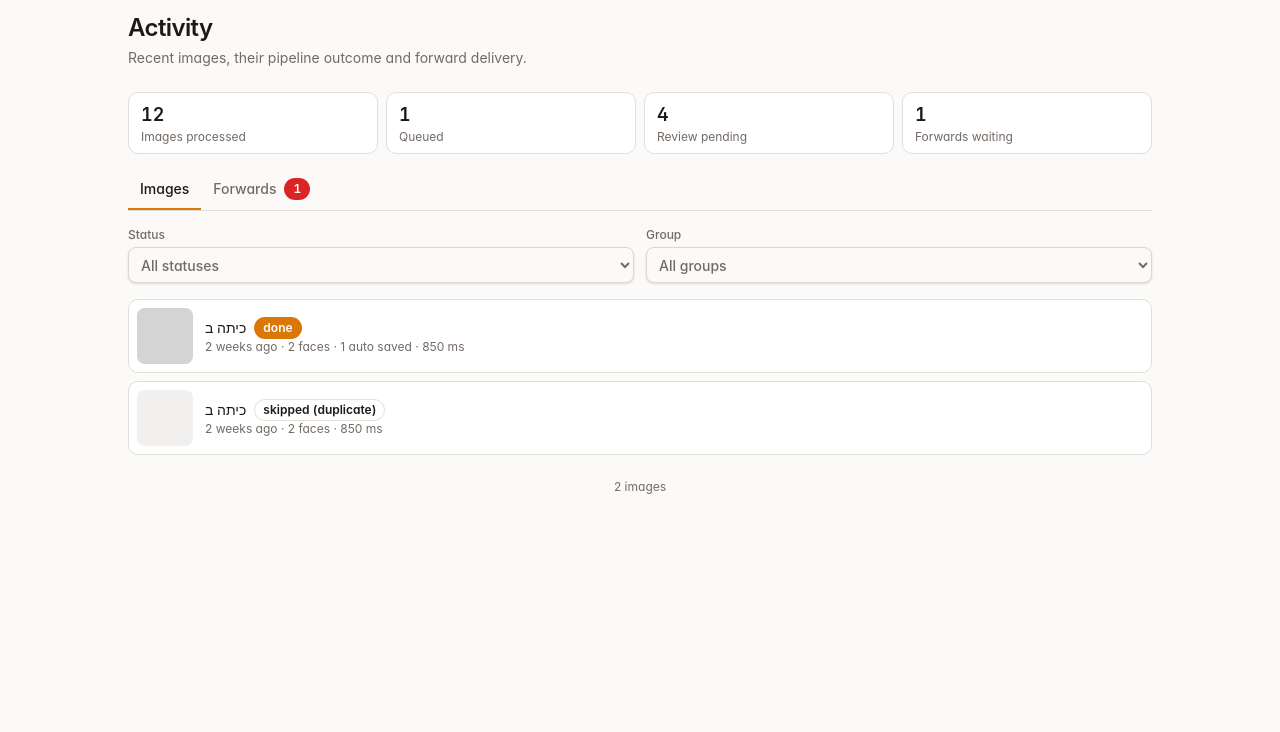
Test: ActivityPage › retries a failed forward
Click the tab "Forwards 1": [262, 190] box [201,170,322,210]
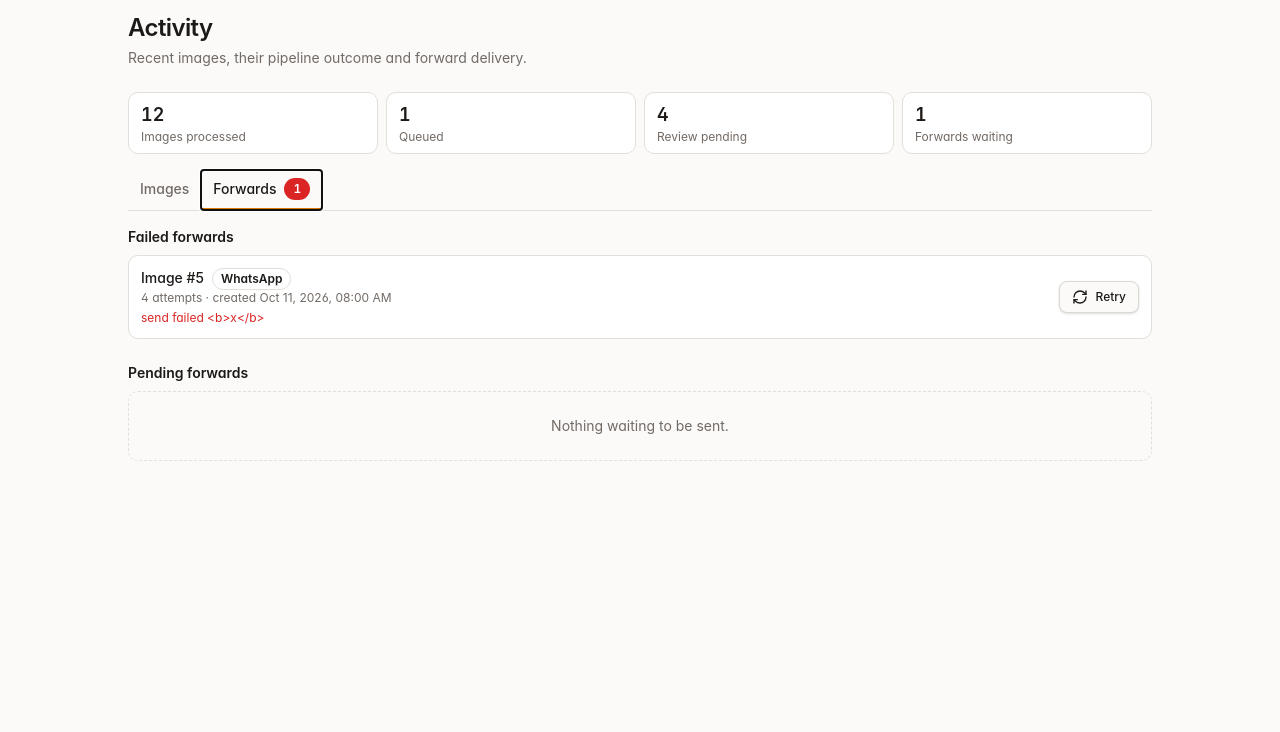
Result: the text "send failed <b>x</b>" is shown at [141,310,264,325]
Click the button with aria-label "Retry forward 11": [1099, 297] box [1058,281,1139,313]
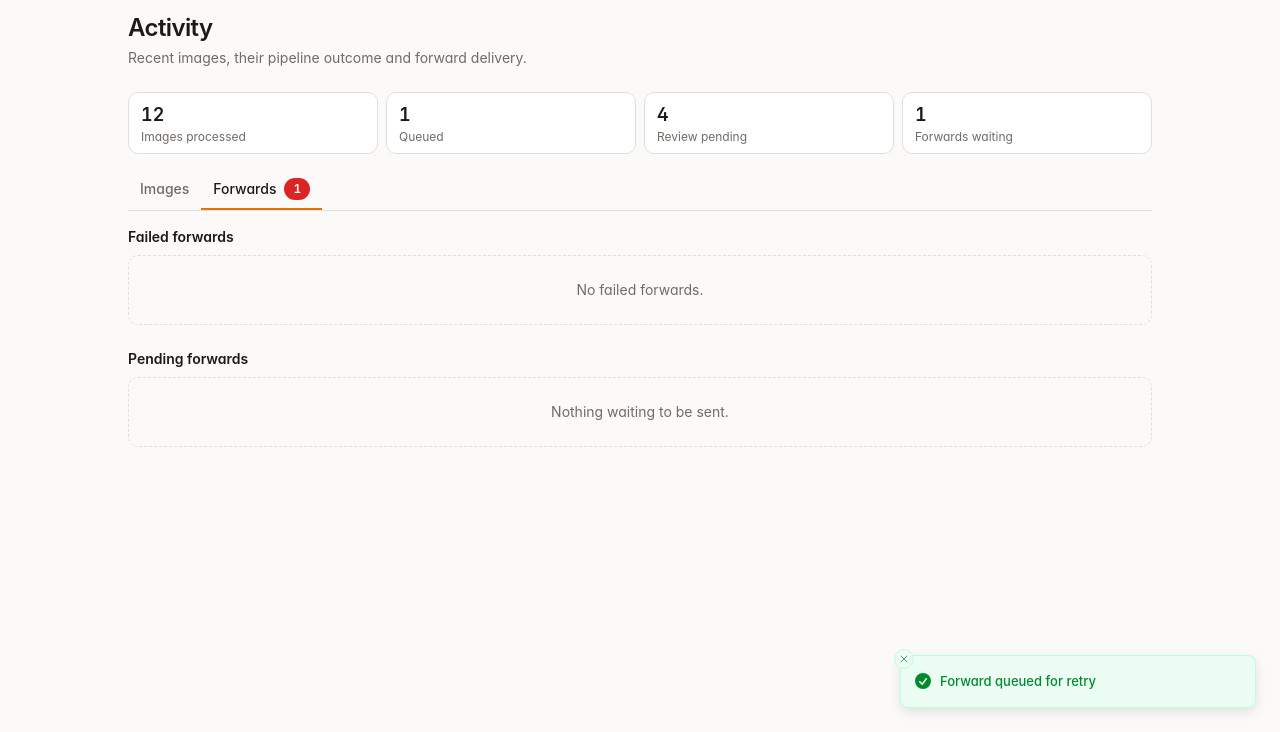
Result: the text "Forward queued for retry" is shown at [940,672,1096,691]
Result: the text "No failed forwards." is shown at [128,255,1152,325]
